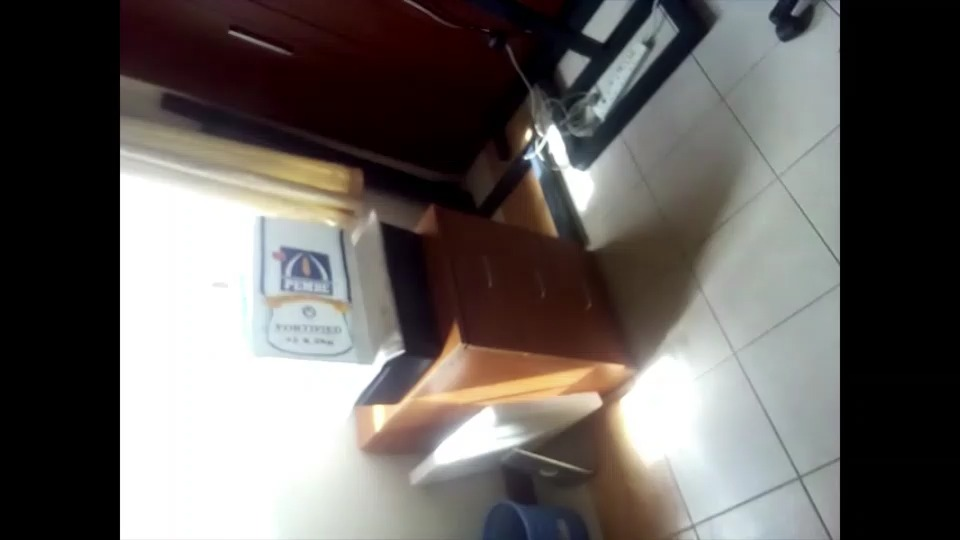wheat_flour_blue_label: (253, 202, 375, 392)
